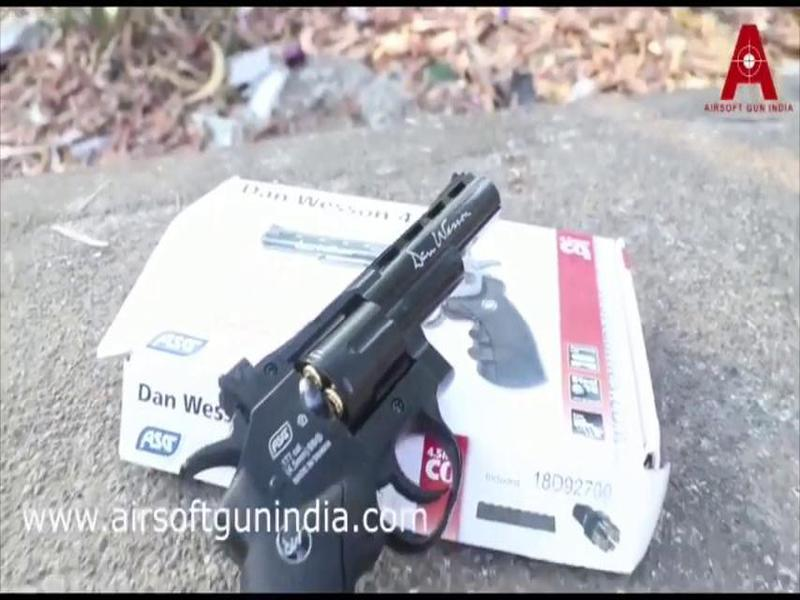Revolver: (169, 162, 509, 597)
